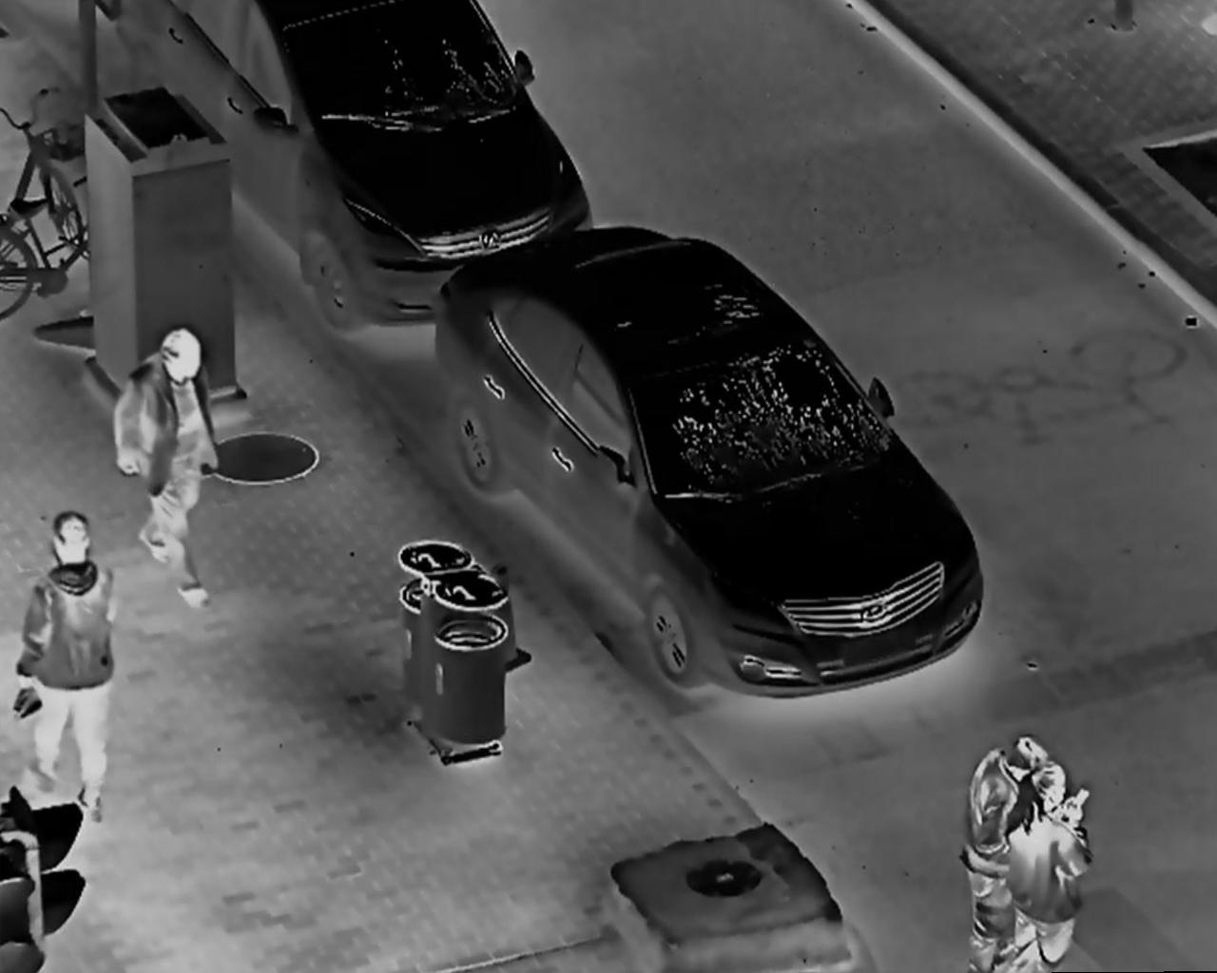person: (10, 509, 117, 825), (109, 326, 222, 611), (962, 734, 1050, 973), (1004, 761, 1096, 973)
